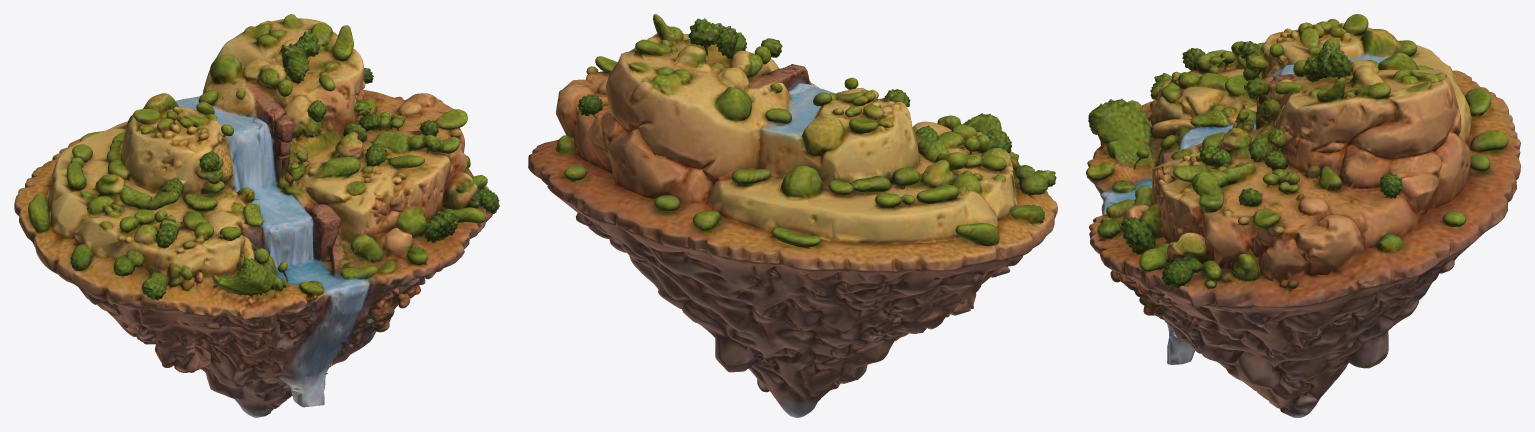
File: 03-landscape-birds.glb
3 renders of one model, left to right at view 1: azimuth 30°, elevation 25°; view 2: azimuth 150°, elevation 25°; view 3: azimuth 270°, elevation 25°, orthographic. The views are drawn at different scales.
Visible parts, largest first — view 1: tripo_node_1f77c117-7582-4d0f-91cd-1afc10127263; view 2: tripo_node_1f77c117-7582-4d0f-91cd-1afc10127263; view 3: tripo_node_1f77c117-7582-4d0f-91cd-1afc10127263.
Part boxes in pixels (x1,y1,x2,y2): tripo_node_1f77c117-7582-4d0f-91cd-1afc10127263: (14, 14, 499, 417); tripo_node_1f77c117-7582-4d0f-91cd-1afc10127263: (528, 14, 1057, 417); tripo_node_1f77c117-7582-4d0f-91cd-1afc10127263: (1086, 14, 1520, 417).
Bounding box in the file's own units: 0.5221 × 0.4222 × 0.4123.
Materials: 1 (1 with a texture image).
